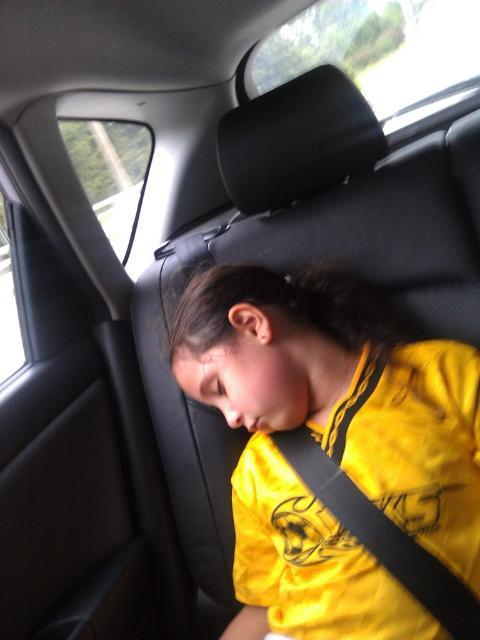Seatbelt: (270, 435, 480, 639)
